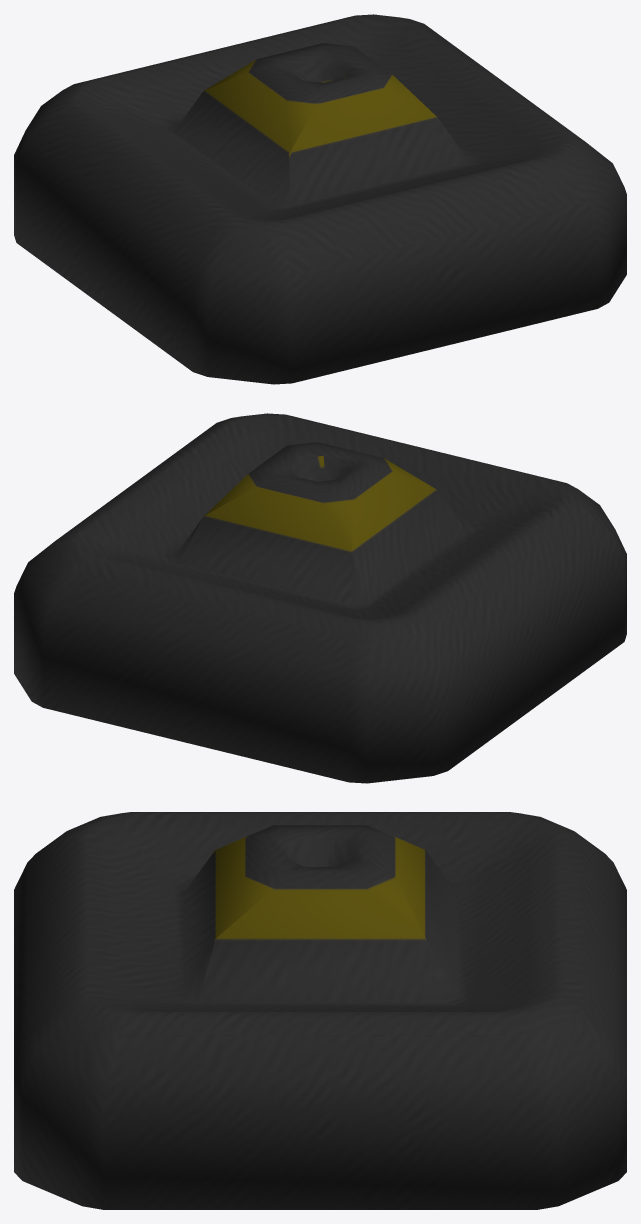
File: Laser_end.glb
The picture shows the model from 3 angles, top to bottom: view 1: azimuth 30°, elevation 25°; view 2: azimuth 150°, elevation 25°; view 3: azimuth 270°, elevation 25°; orthographic projection. The views are drawn at different scales.
Visible parts, largest first — view 1: Cube.001; view 2: Cube.001; view 3: Cube.001.
Boxes of the visible parts, x1=… form: Cube.001: x1=14, y1=14, x2=626, y2=384; Cube.001: x1=14, y1=413, x2=626, y2=783; Cube.001: x1=14, y1=812, x2=626, y2=1209.
Size of the model in its own units: 2 by 0.828 by 2.
Materials: 1 (1 with a texture image).
